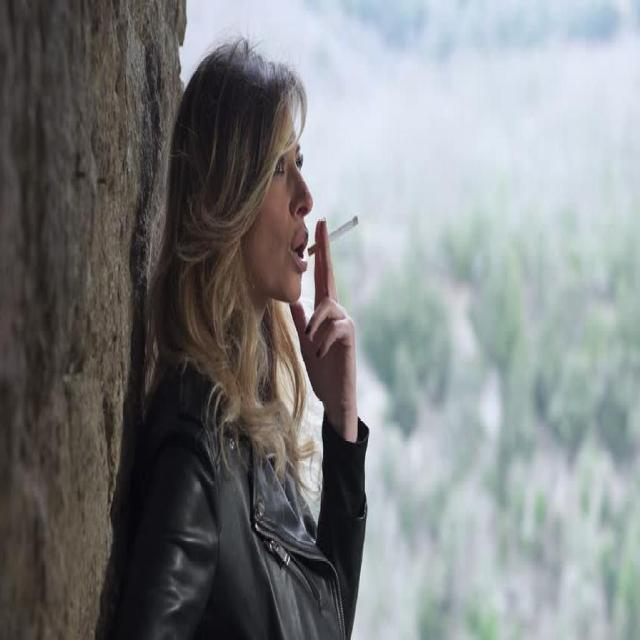smoking: (182, 33, 380, 431)
